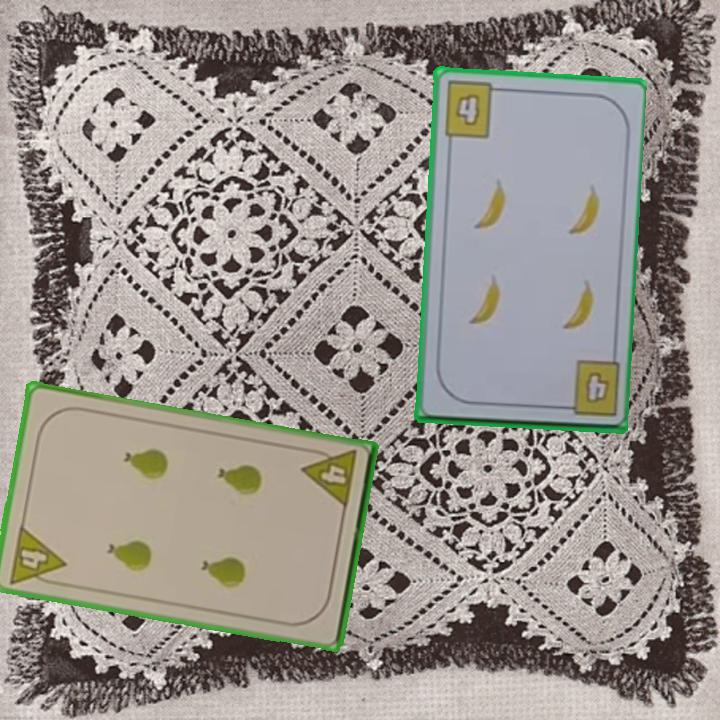4b: (554, 357, 622, 420), (440, 78, 505, 141)
4p: (5, 522, 69, 590), (299, 445, 359, 512)
